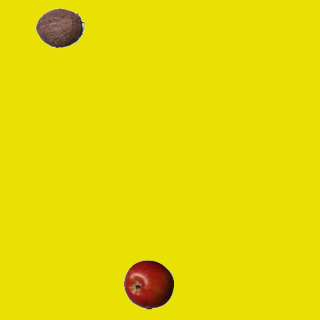Apple Braeburn: (123, 259, 173, 309)
Cocos: (34, 2, 84, 52)
